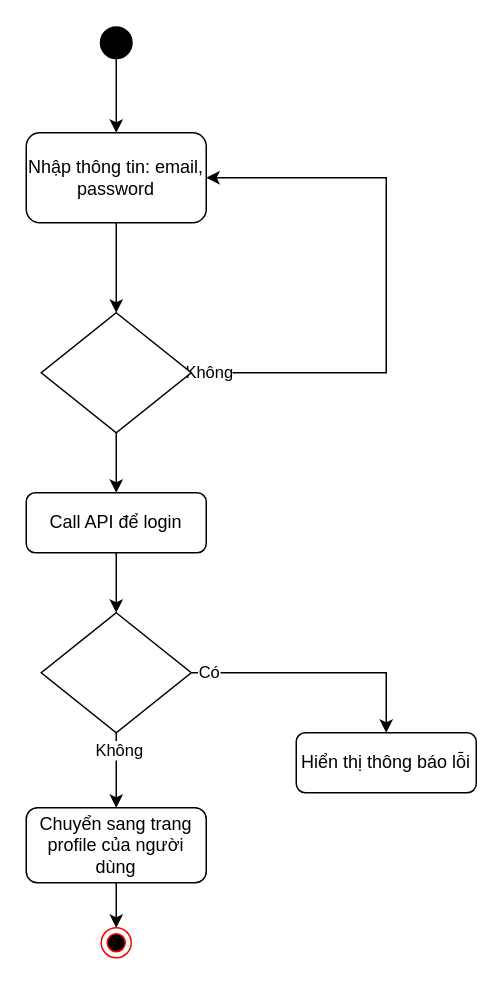
The diagram is 503 pixels wide and 984 high, and some of its shapes have lost their labels. Here are the shapes that lost their labels. From the top down, the centre of each, then its label:
At point 115,372: "Valid?".
At point 115,672: "Có lỗi?".
